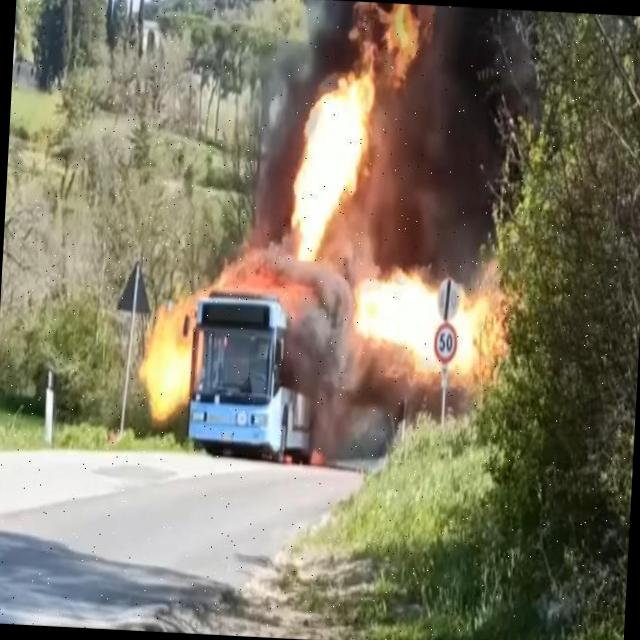Fire: (284, 0, 425, 261), (349, 272, 506, 392), (133, 284, 214, 424)
Smoke: (375, 52, 524, 273), (253, 232, 357, 364)
